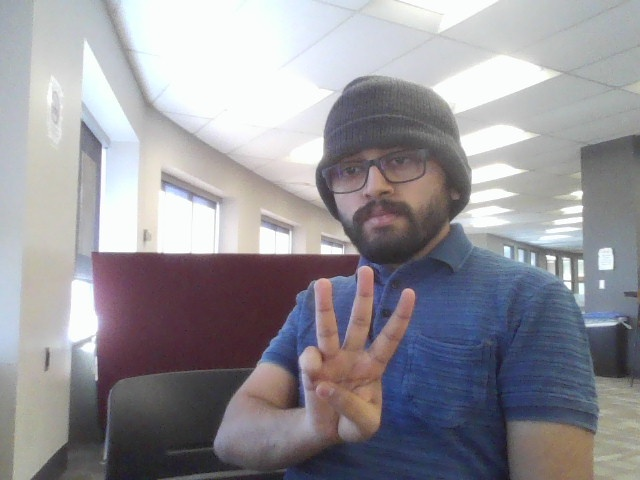start: (291, 263, 424, 452)
